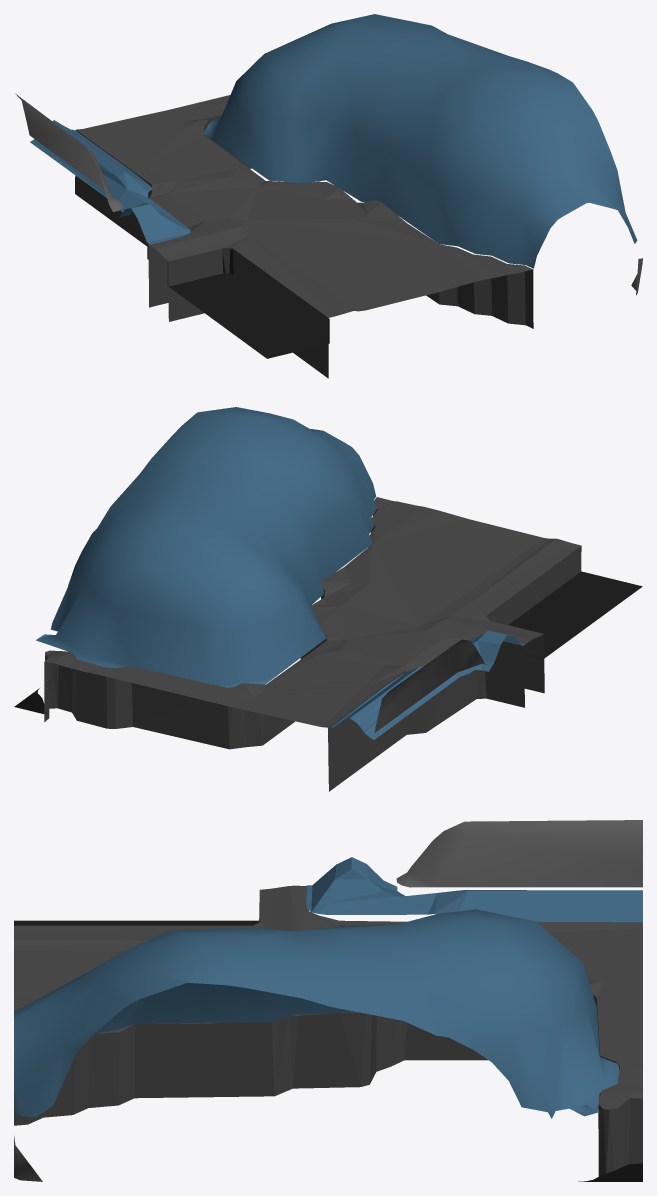
File: newsho-43.glb
3 renders of one model, top to bottom at view 1: azimuth 30°, elevation 25°; view 2: azimuth 150°, elevation 25°; view 3: azimuth 270°, elevation 25°, orthographic. The views are drawn at different scales.
Visible parts, largest first — view 1: newsho-43; view 2: newsho-43; view 3: newsho-43.
Part boxes in pixels (box(x1,y1,x2,y2)): newsho-43: box(15, 14, 642, 378); newsho-43: box(14, 407, 642, 791); newsho-43: box(14, 820, 642, 1181).
Size of the model in its own units: 2 by 0.9086 by 2.33.
